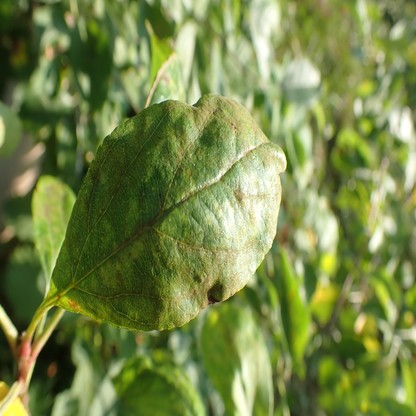scab: (68, 94, 286, 330), (41, 182, 58, 219)
